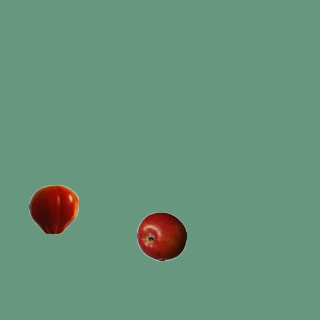Apple Braeburn: (136, 211, 186, 261)
Tomato 1: (28, 184, 78, 234)
